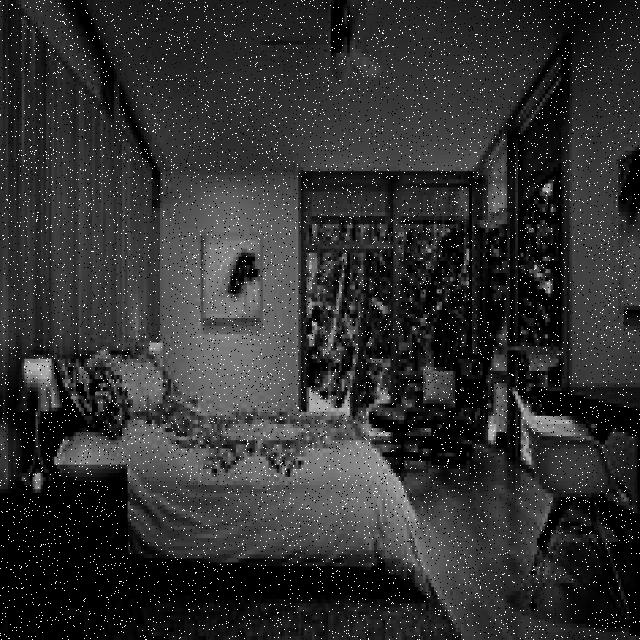bed: (86, 336, 407, 568)
